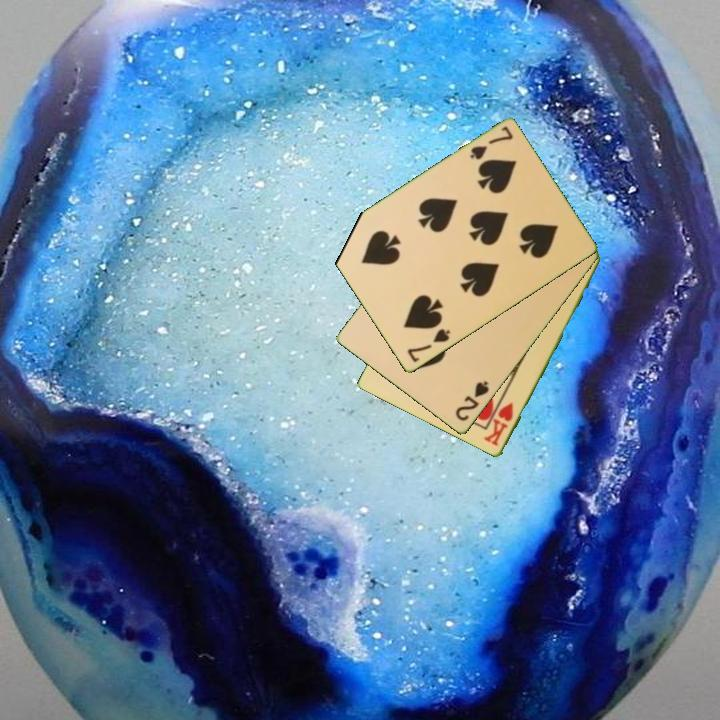2s: (452, 377, 492, 424)
7s: (403, 325, 453, 366), (466, 123, 516, 163)
Kh: (481, 399, 516, 449)
